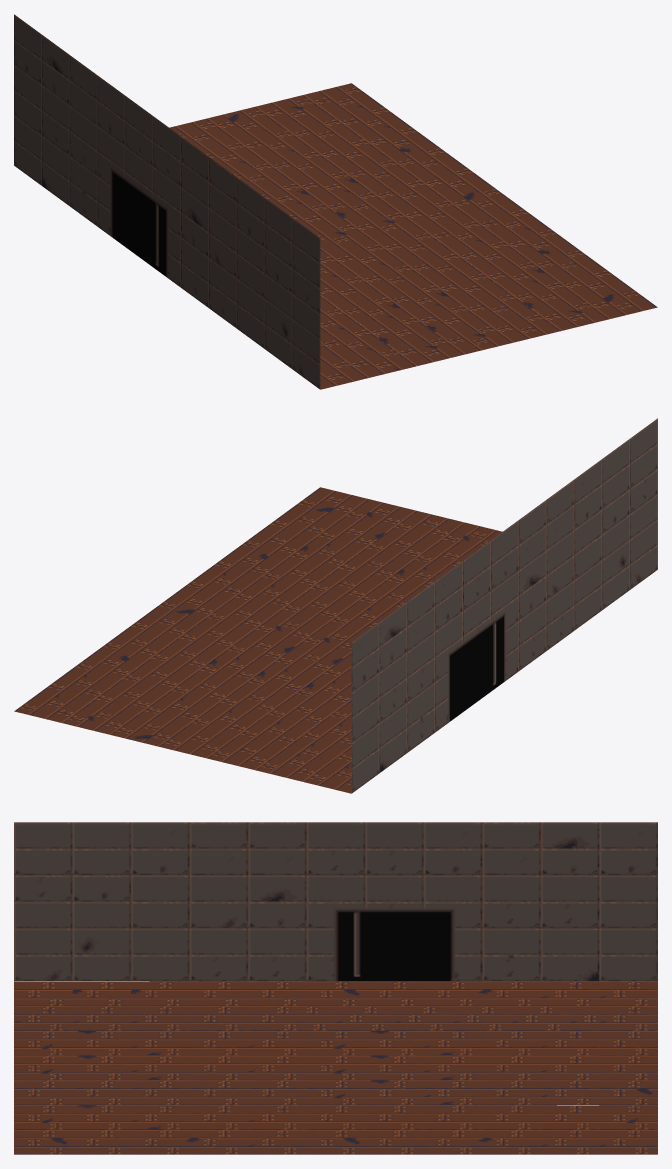
File: Dungeon.obj
3 views of the same model, one above another, from view 1: azimuth 30°, elevation 25°; view 2: azimuth 150°, elevation 25°; view 3: azimuth 270°, elevation 25° (orthographic). The views are drawn at different scales.
Parts seen in each view (by area): view 1: Default; view 2: Default; view 3: Default.
Boxes of the visible parts, x1,y1,x2,y2 form: Default: (14, 14, 657, 389); Default: (14, 418, 657, 793); Default: (14, 822, 657, 1154).
Bounding box in the file's own units: 14 × 6 × 22.
Materials: 1 (1 with a texture image).
